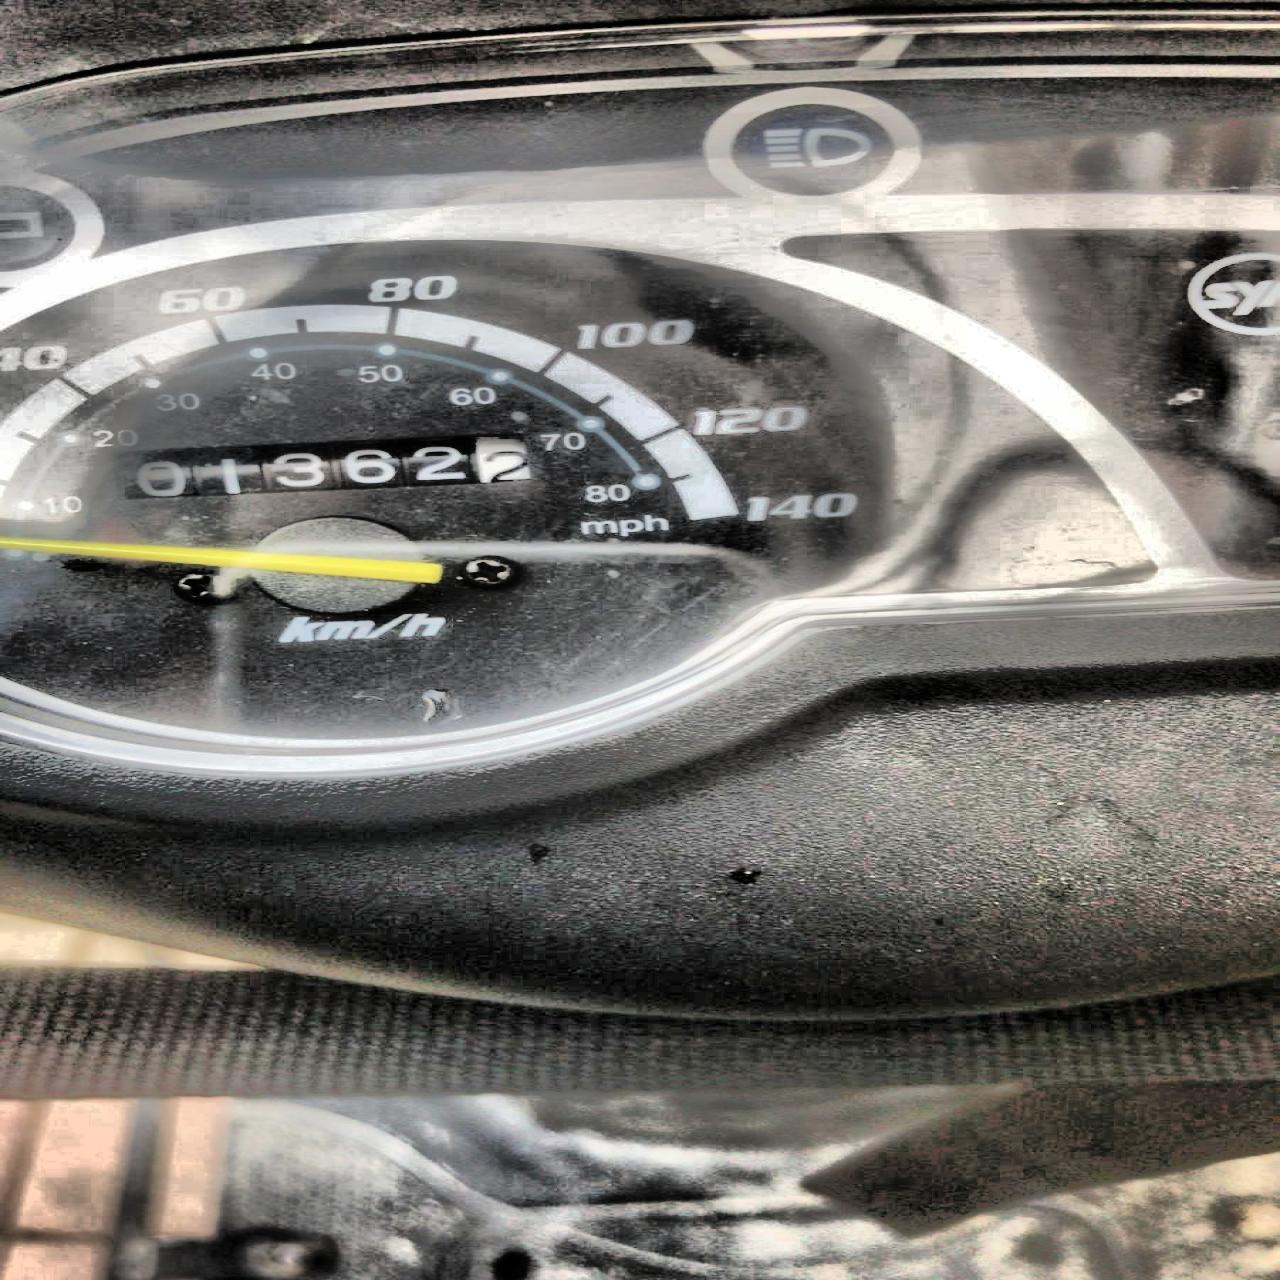0: (129, 457, 193, 498), (115, 425, 144, 448)
1: (213, 448, 247, 497)
2: (409, 441, 467, 486), (482, 445, 537, 490)
3: (268, 448, 332, 489)
6: (339, 443, 395, 489)
7: (542, 429, 560, 449)
odometer: (109, 434, 561, 505)
